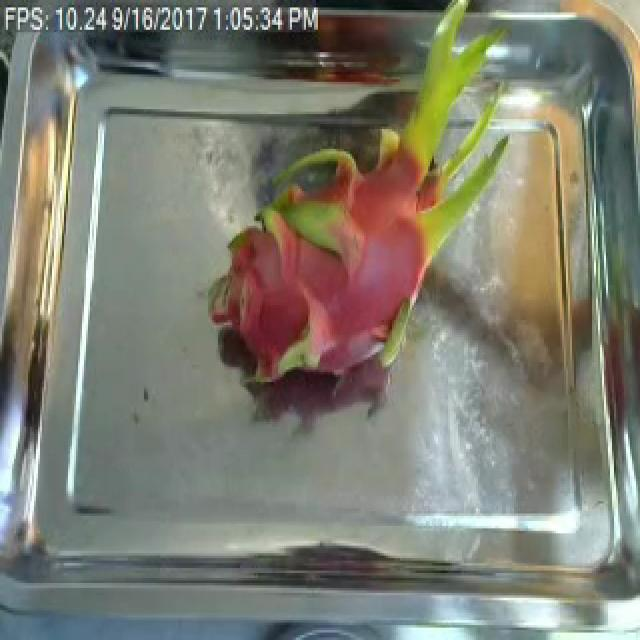fruit: (192, 64, 526, 412)
